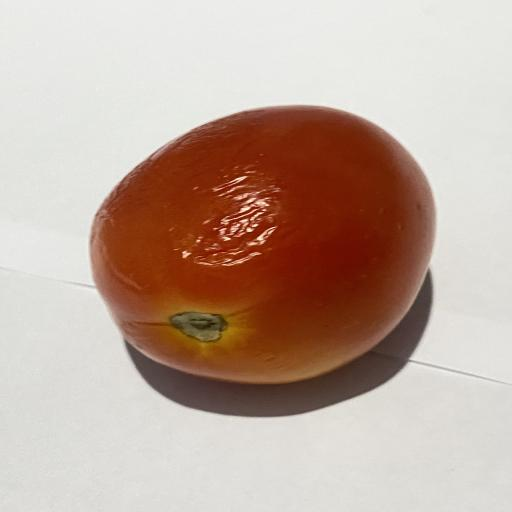spoiled: (90, 106, 435, 383)
